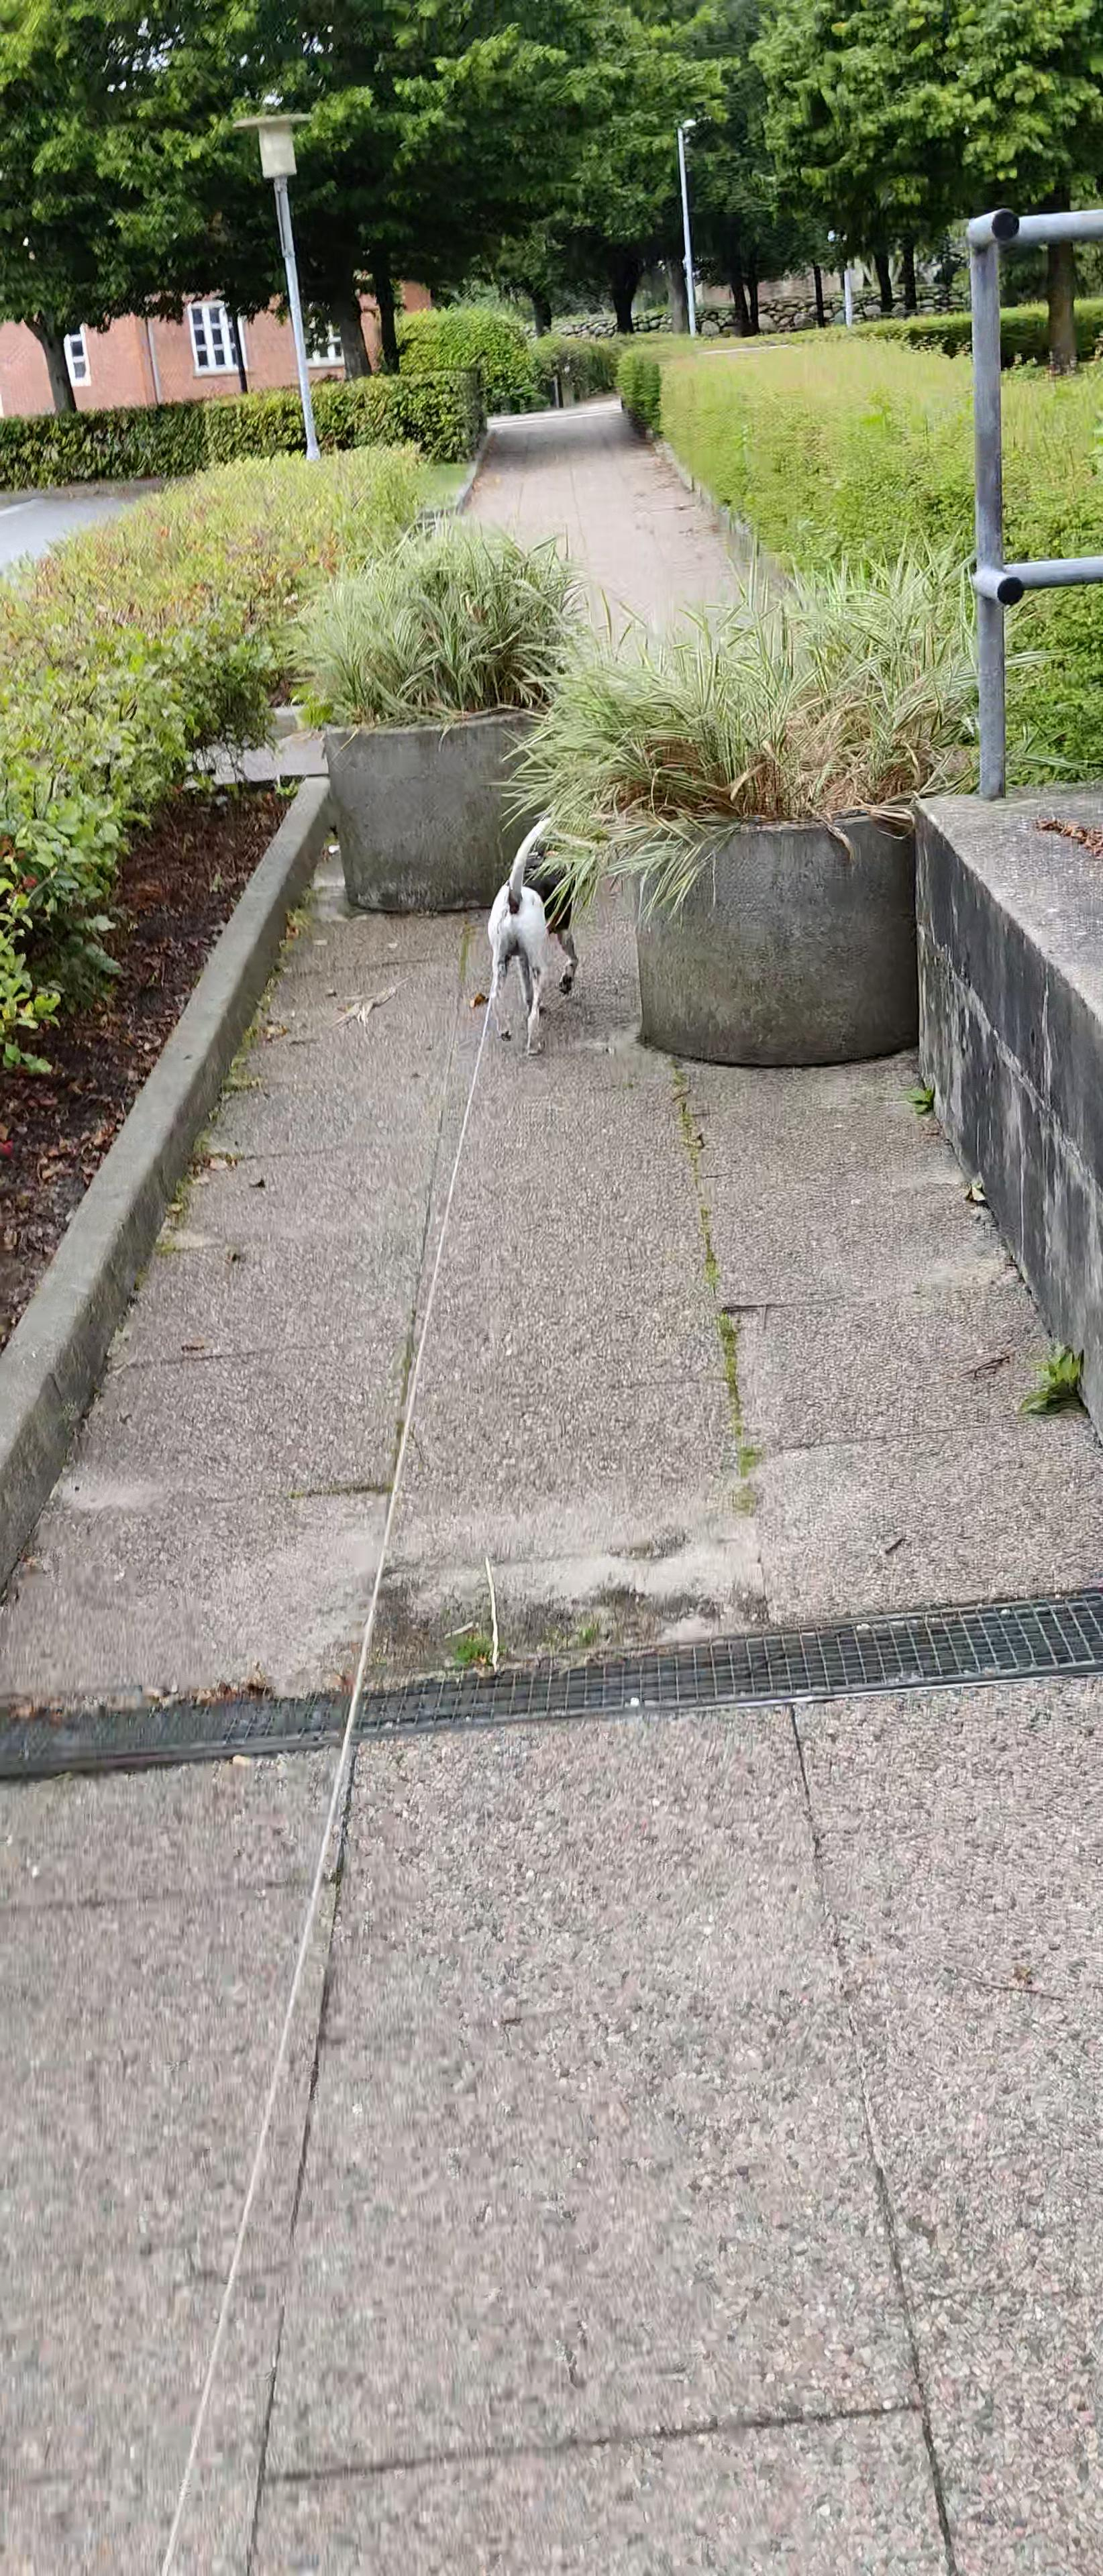Dog: (487, 813, 582, 1058)
